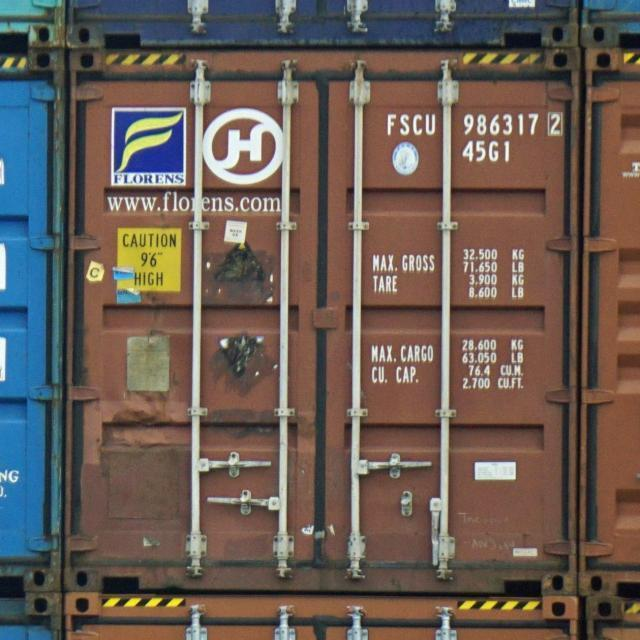ISO: (464, 139, 512, 165)
container_number: (384, 108, 562, 138)
